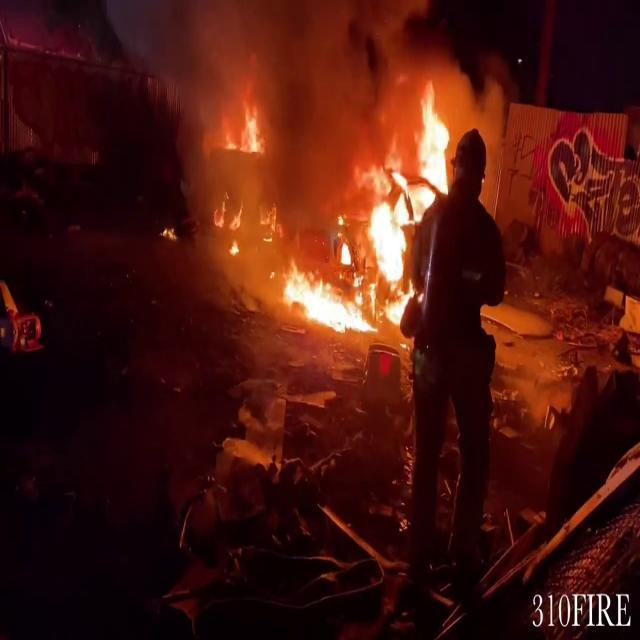Fire: (279, 81, 456, 341), (224, 96, 264, 162)
Smoke: (178, 0, 420, 172)
